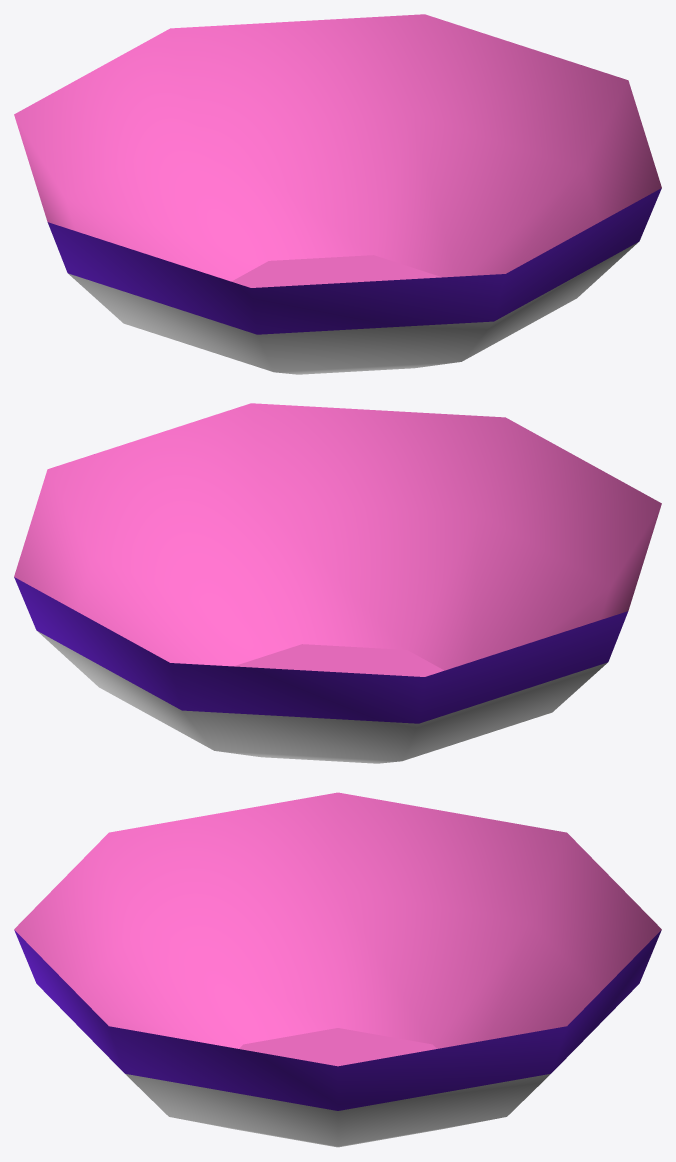
The model's file is Bowl_G_2.FBX.
3 renders of one model, top to bottom at view 1: azimuth 30°, elevation 25°; view 2: azimuth 150°, elevation 25°; view 3: azimuth 270°, elevation 25°, orthographic. The views are drawn at different scales.
Parts seen in each view (by area): view 1: Bowl; view 2: Bowl; view 3: Bowl.
Boxes of the visible parts, x1,y1,x2,y2 form: Bowl: (14,14,661,374); Bowl: (14,403,661,763); Bowl: (14,792,661,1147).
Bounding box in the file's own units: 70.43 × 18.64 × 70.43.
